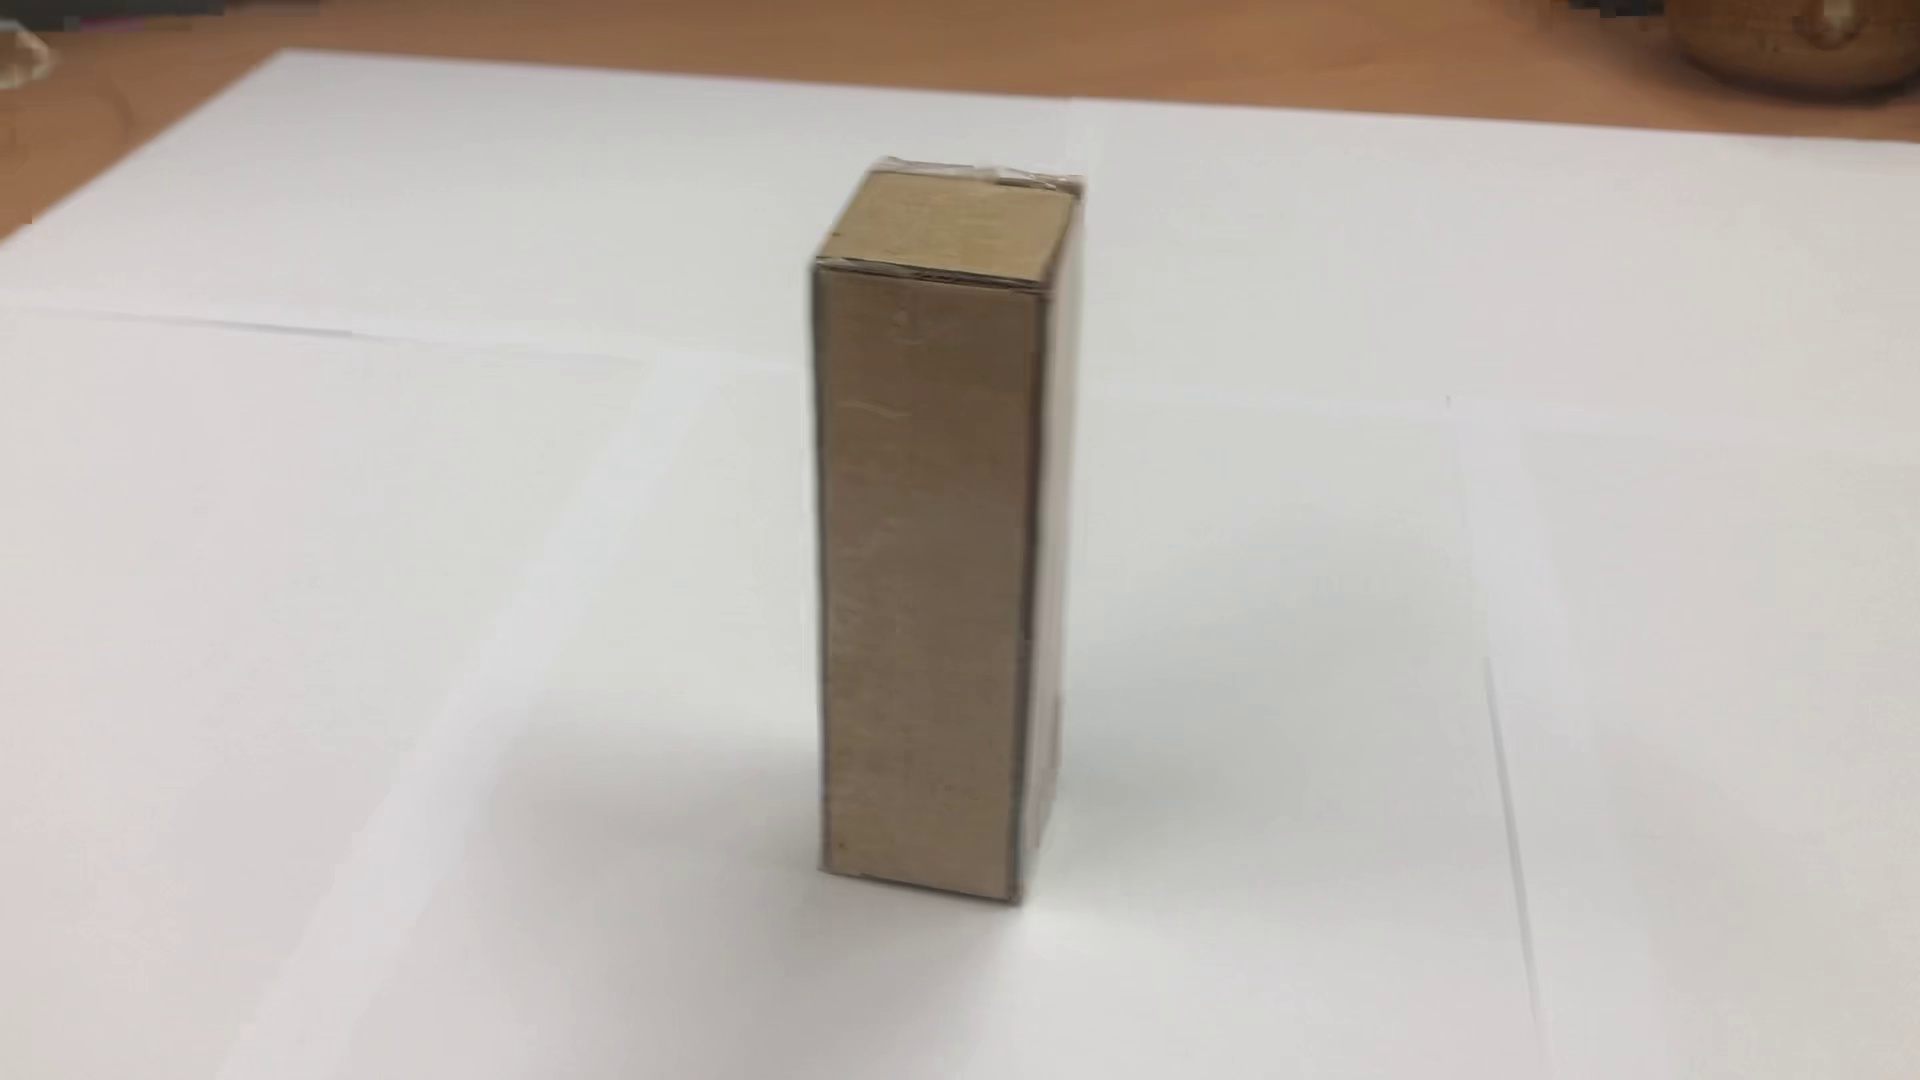box: (775, 138, 1093, 939)
